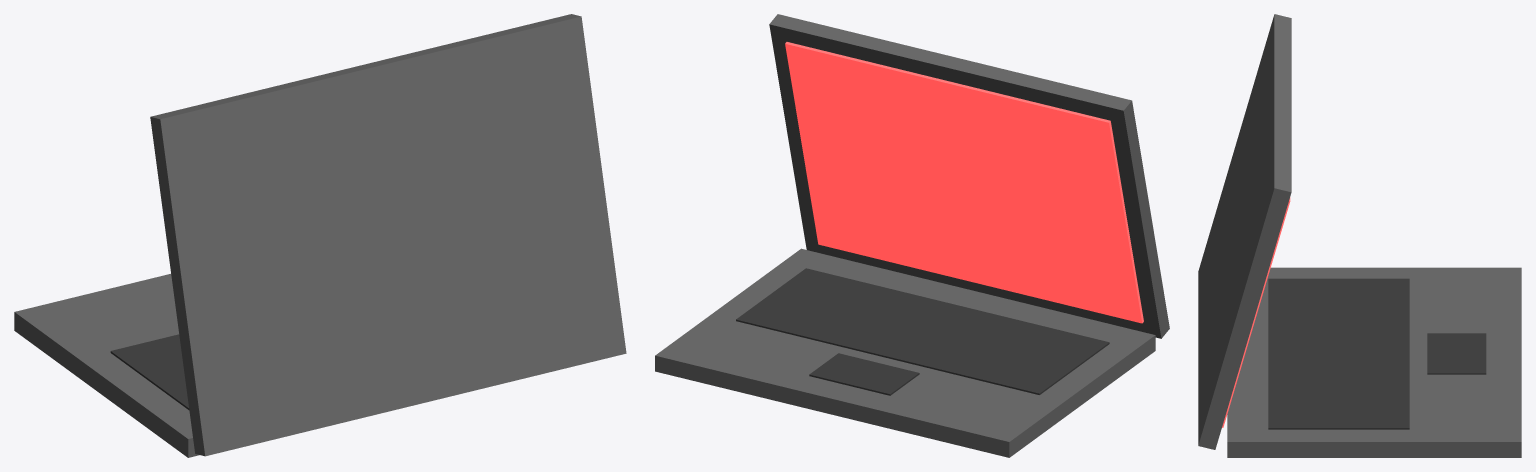
File: laptop_caos.glb
3 views of the same model, side by side, from view 1: azimuth 30°, elevation 25°; view 2: azimuth 150°, elevation 25°; view 3: azimuth 270°, elevation 25° (orthographic). The views are drawn at different scales.
Visible parts, largest first — view 1: Laptop_Screen_Frame, Laptop_Base, Laptop_Keyboard; view 2: Laptop_Display, Laptop_Base, Laptop_Keyboard, Laptop_Screen_Frame, Laptop_Trackpad; view 3: Laptop_Base, Laptop_Keyboard, Laptop_Screen_Frame, Laptop_Trackpad, Laptop_Display.
Part boxes in pixels (x1,y1,x2,y2): Laptop_Screen_Frame: [150, 14, 626, 456]; Laptop_Base: [14, 274, 199, 457]; Laptop_Keyboard: [110, 334, 189, 409]; Laptop_Display: [785, 42, 1143, 323]; Laptop_Base: [655, 248, 1155, 457]; Laptop_Keyboard: [736, 268, 1109, 394]; Laptop_Screen_Frame: [769, 14, 1169, 338]; Laptop_Trackpad: [809, 353, 919, 395]; Laptop_Base: [1227, 267, 1521, 457]; Laptop_Keyboard: [1268, 278, 1409, 429]; Laptop_Screen_Frame: [1198, 14, 1291, 449]; Laptop_Trackpad: [1427, 333, 1486, 374]; Laptop_Display: [1222, 197, 1290, 427].
Bounding box in the file's own units: 0.35 × 0.2527 × 0.2746.
